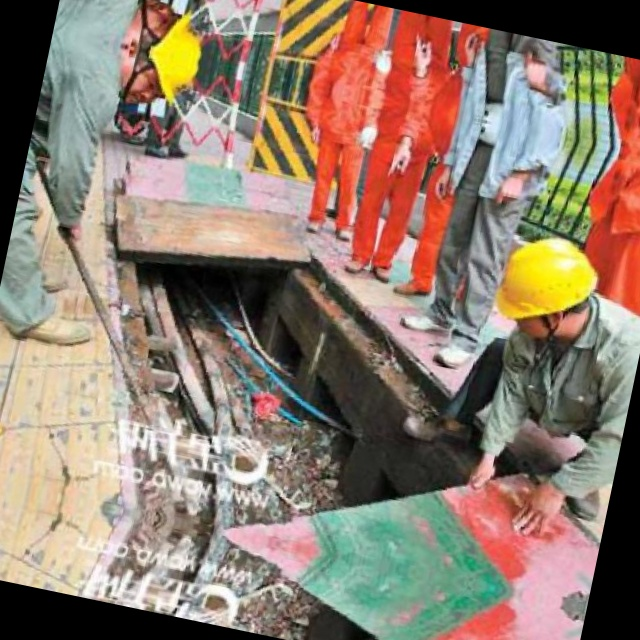helmet: (41, 180, 157, 300), (488, 90, 562, 144), (488, 36, 562, 90)
person: (1, 186, 214, 472), (482, 91, 636, 400), (481, 0, 637, 89)
